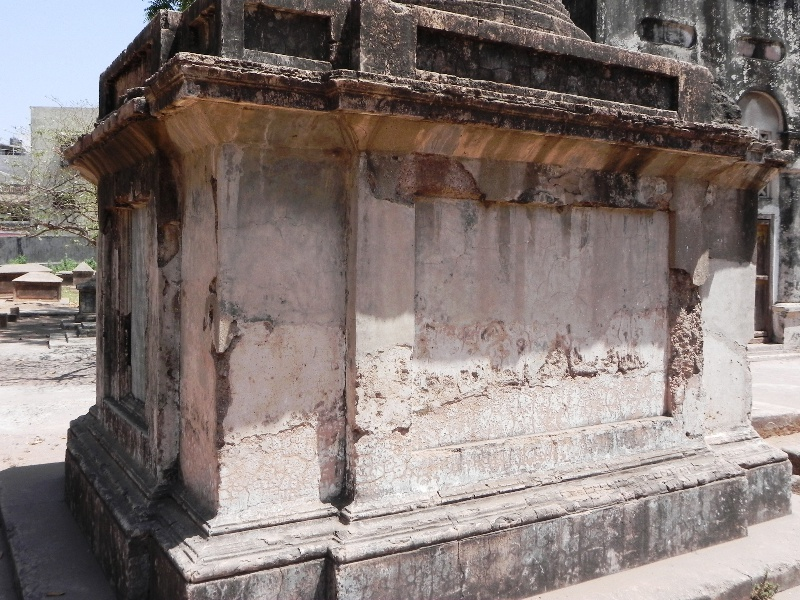Spalling: (361, 147, 496, 210), (665, 261, 712, 404), (205, 318, 241, 450)
